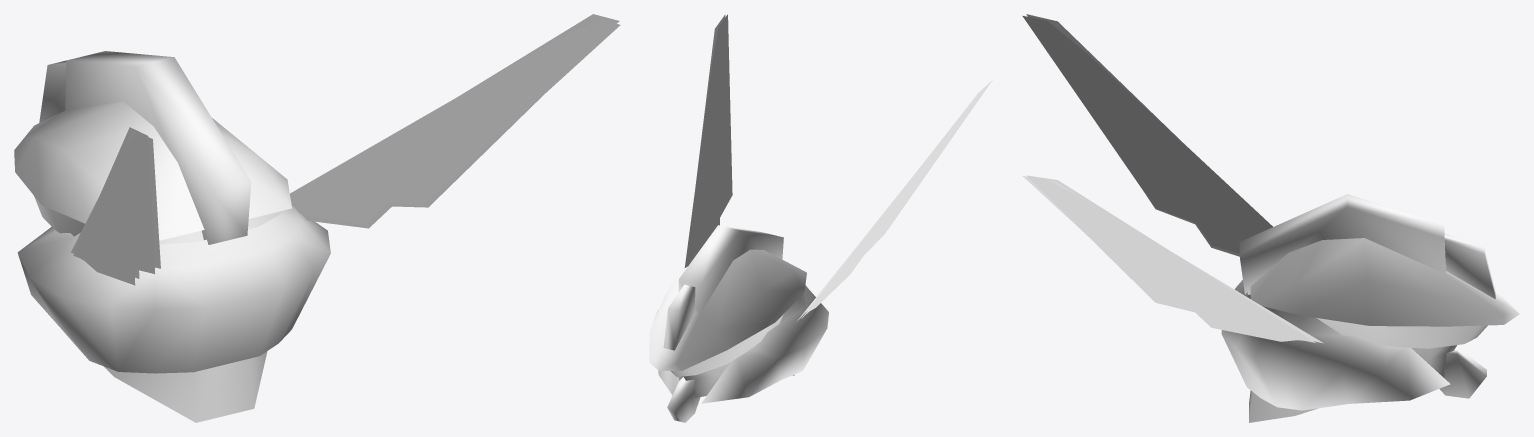
Rendered from impuls7.ico.obj.
3 views of the same model, side by side, from view 1: azimuth 30°, elevation 25°; view 2: azimuth 150°, elevation 25°; view 3: azimuth 270°, elevation 25° (orthographic). The views are drawn at different scales.
Bounding box in the file's own units: 2.41 × 2.22 × 3.15.
Materials: 1 (1 with a texture image).
